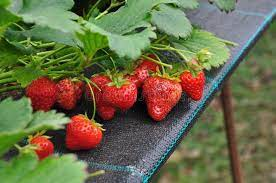ripe: (142, 73, 185, 122), (63, 112, 105, 152), (175, 56, 207, 102), (21, 74, 58, 113), (99, 79, 141, 111), (27, 131, 55, 162), (87, 70, 114, 101), (57, 75, 82, 108), (138, 48, 162, 77), (123, 63, 150, 88), (93, 98, 119, 123)
